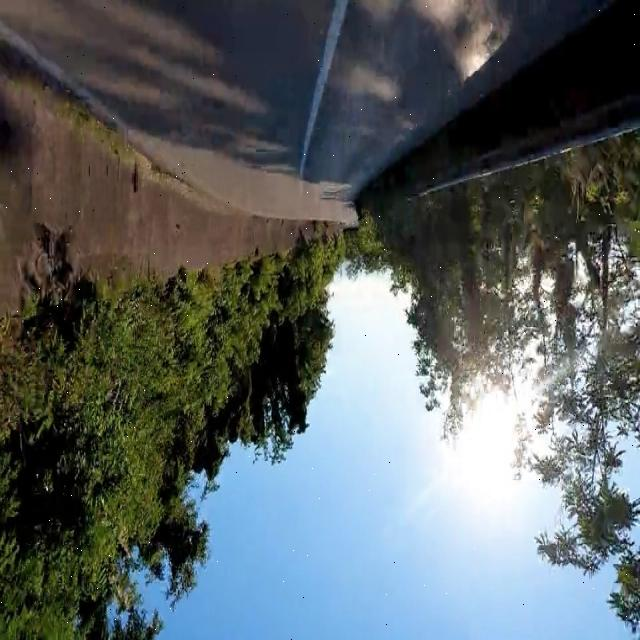lane: (301, 1, 348, 179)
road: (304, 2, 607, 200), (1, 2, 333, 179)
